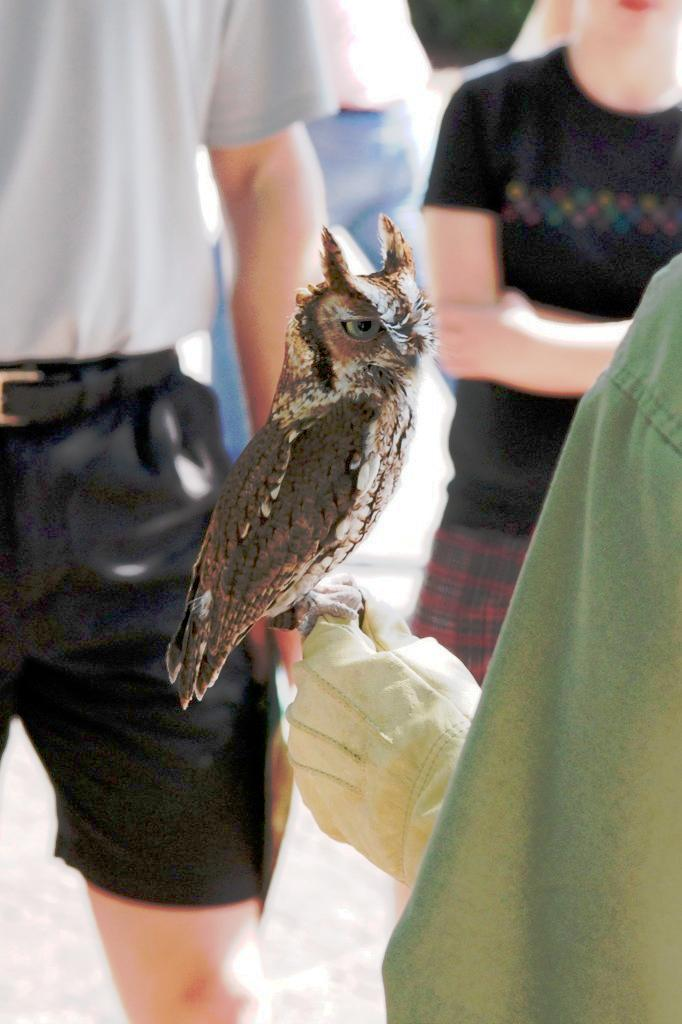Owl: (159, 213, 439, 717)
